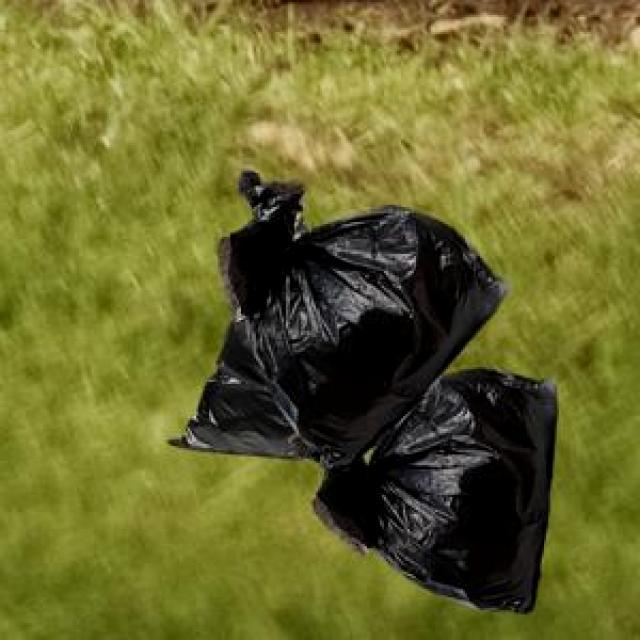Trashbag: (215, 165, 510, 472)
